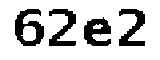2: (46, 6, 80, 51), (115, 5, 147, 49)
6: (13, 5, 44, 47)
e: (81, 17, 114, 49)
